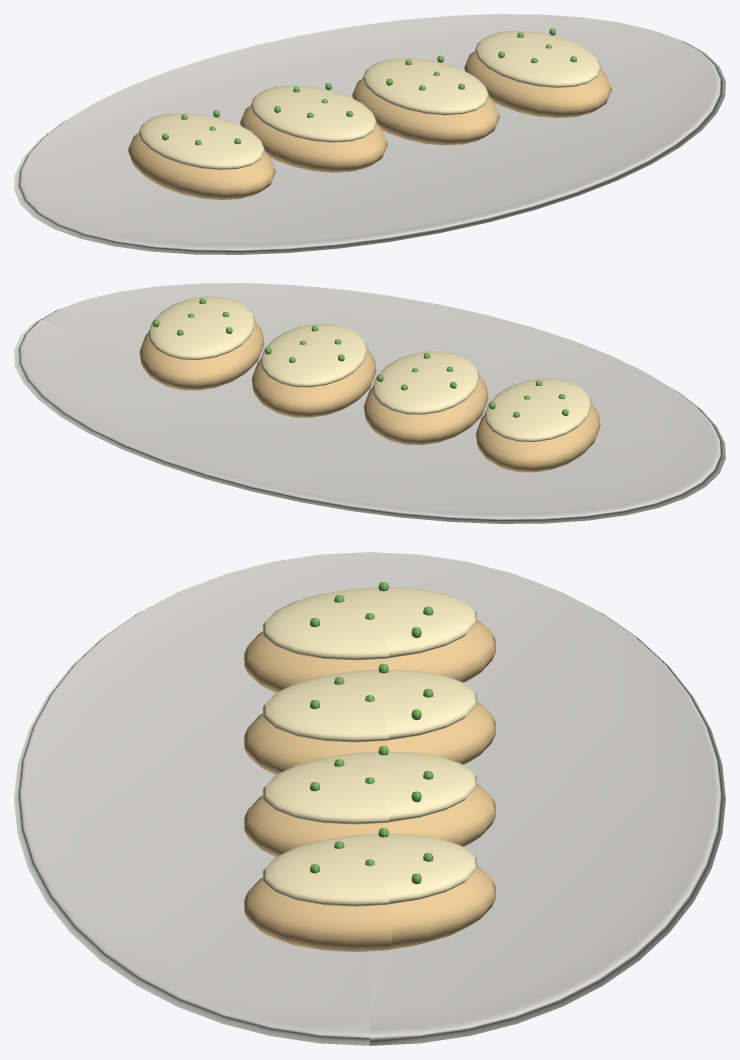
The model's file is garlic-bread.glb.
3 views of the same model, one above another, from view 1: azimuth 30°, elevation 25°; view 2: azimuth 150°, elevation 25°; view 3: azimuth 270°, elevation 25° (orthographic). The views are drawn at different scales.
Parts seen in each view (by area): view 1: garlic-bread; view 2: garlic-bread; view 3: garlic-bread.
Part boxes in pixels (box(x1,y1,x2,y2)): garlic-bread: box(14, 14, 725, 254); garlic-bread: box(14, 283, 725, 523); garlic-bread: box(14, 552, 725, 1045).
Size of the model in its own units: 0.36 by 0.0323 by 0.22.
